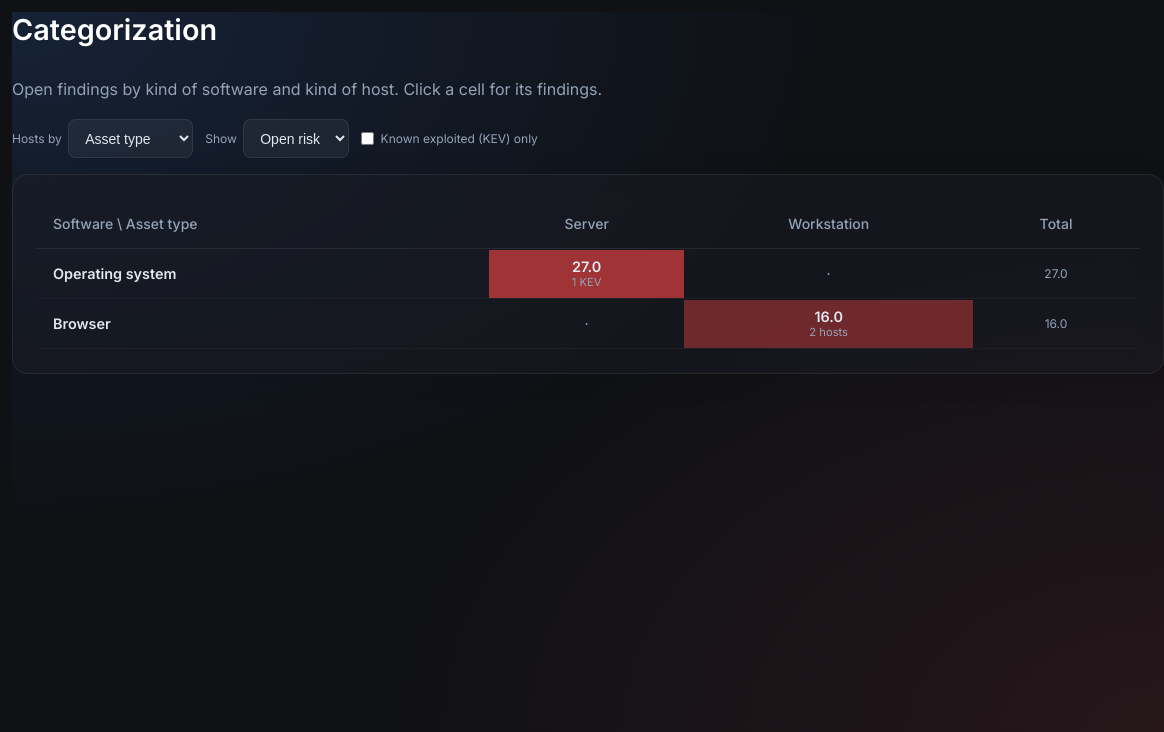
Test: Categorization › opens the findings of a cell, once
Click the button with aria-label "Browser on Workstation: 2 findings": (829, 324) [684,300,973,348]
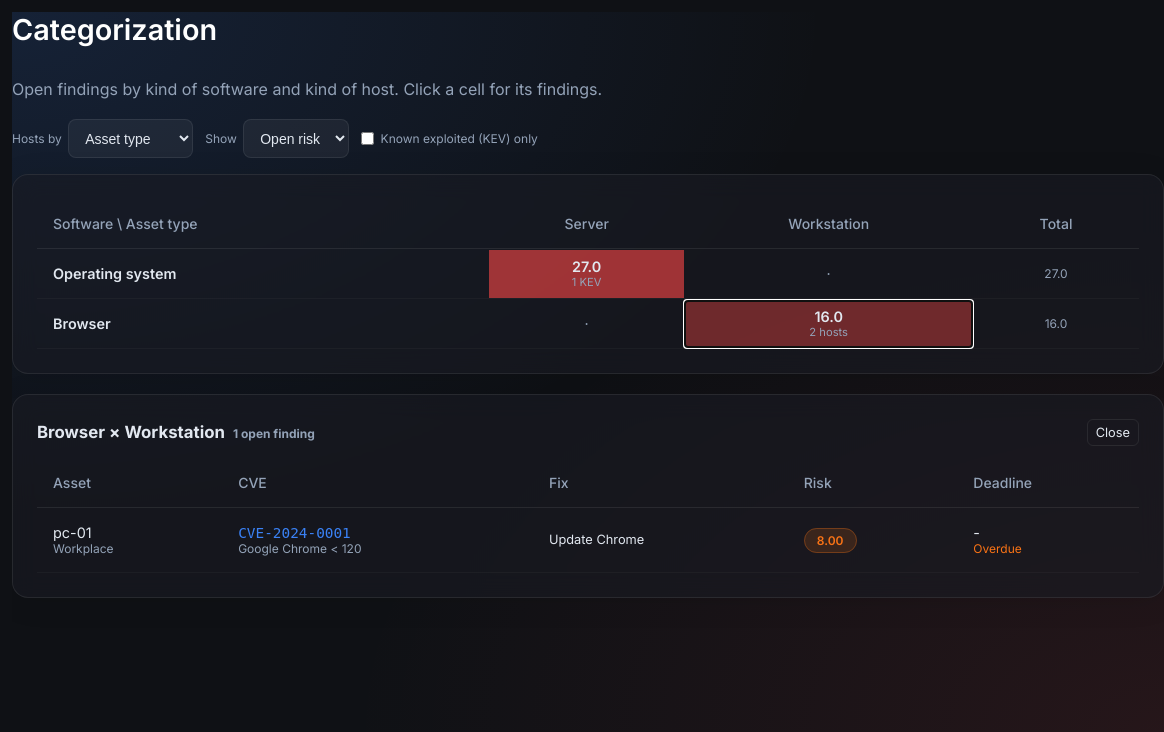
Expected: the text "pc-01" is shown, [53,524,92,541]
Expected: the text "Update Chrome" is shown, [533,508,788,573]
